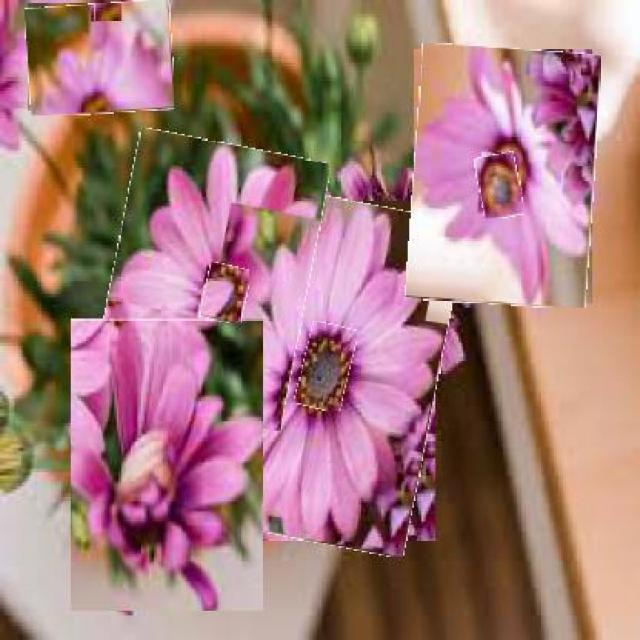Flower: (202, 191, 453, 551), (103, 136, 320, 425), (71, 319, 265, 613), (410, 46, 598, 308), (26, 1, 174, 115), (298, 323, 354, 411), (477, 153, 523, 219), (202, 264, 249, 324), (94, 3, 123, 22)
